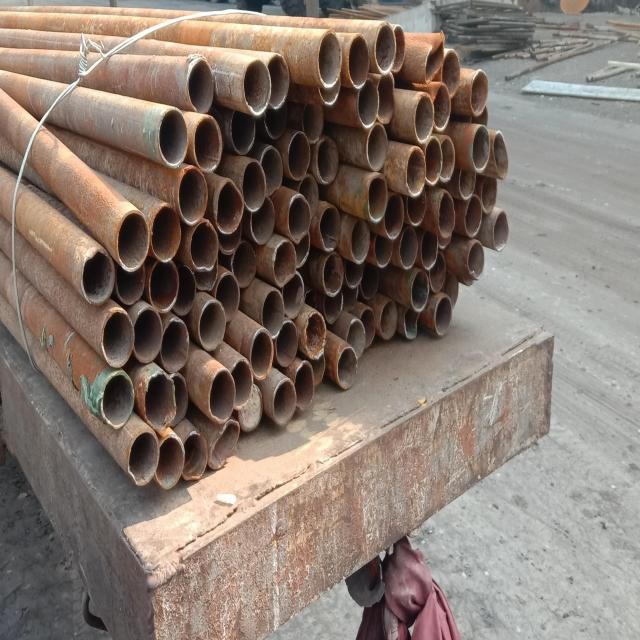pipe: (143, 372, 177, 434), (100, 307, 135, 366), (81, 250, 115, 306), (117, 212, 150, 268), (150, 205, 182, 262), (133, 305, 163, 365), (128, 430, 160, 486), (103, 370, 133, 428), (178, 167, 208, 224), (158, 108, 188, 164), (194, 116, 224, 172), (150, 256, 178, 315), (215, 178, 243, 236), (187, 57, 215, 115), (244, 58, 272, 116), (208, 418, 240, 468), (160, 320, 190, 373), (190, 217, 219, 269), (115, 258, 145, 308), (157, 436, 185, 488), (199, 299, 227, 351), (208, 368, 236, 420), (240, 158, 266, 213), (266, 52, 290, 111), (228, 356, 254, 408), (347, 33, 370, 90), (286, 194, 312, 244), (320, 28, 342, 87), (182, 432, 208, 480), (237, 384, 264, 430), (250, 326, 273, 380), (405, 144, 428, 197), (261, 287, 284, 339), (366, 172, 389, 224), (259, 146, 283, 194), (250, 196, 274, 244), (216, 272, 239, 322), (229, 108, 254, 154), (316, 134, 339, 184), (374, 23, 396, 75), (367, 121, 389, 173), (376, 71, 396, 127), (286, 134, 310, 180), (274, 240, 298, 286), (304, 310, 327, 358), (356, 77, 379, 125), (272, 377, 295, 423), (318, 206, 341, 252), (435, 190, 456, 240), (441, 46, 461, 98), (232, 244, 255, 289), (284, 272, 304, 323), (351, 215, 370, 266), (377, 299, 399, 341), (398, 224, 419, 268), (493, 128, 510, 182), (300, 173, 320, 218), (413, 94, 433, 139), (436, 135, 456, 180), (295, 362, 314, 409), (423, 136, 442, 183), (433, 81, 451, 130), (470, 69, 489, 115), (216, 222, 243, 254), (384, 196, 404, 239), (337, 347, 357, 389), (323, 252, 344, 292), (302, 99, 322, 140), (346, 317, 365, 360), (463, 193, 482, 236), (479, 170, 498, 213), (374, 227, 394, 267), (433, 295, 452, 337), (420, 228, 439, 270), (491, 210, 510, 252), (316, 71, 340, 104), (472, 126, 490, 170), (405, 188, 426, 225), (468, 240, 486, 282), (429, 250, 446, 294), (425, 37, 444, 76), (193, 259, 218, 288), (360, 305, 376, 350), (323, 290, 344, 324), (458, 163, 477, 200), (392, 22, 405, 76), (411, 270, 429, 309), (342, 258, 362, 286), (266, 111, 283, 141), (404, 306, 419, 340), (445, 272, 459, 306), (311, 352, 325, 383), (360, 279, 379, 301), (341, 286, 358, 308), (304, 289, 316, 313), (436, 231, 452, 247)
